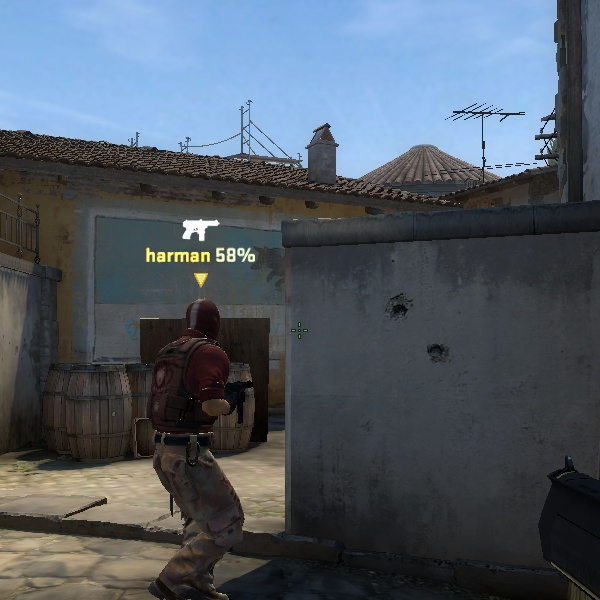t_body: (113, 287, 274, 590)
t_head: (170, 290, 234, 355)
